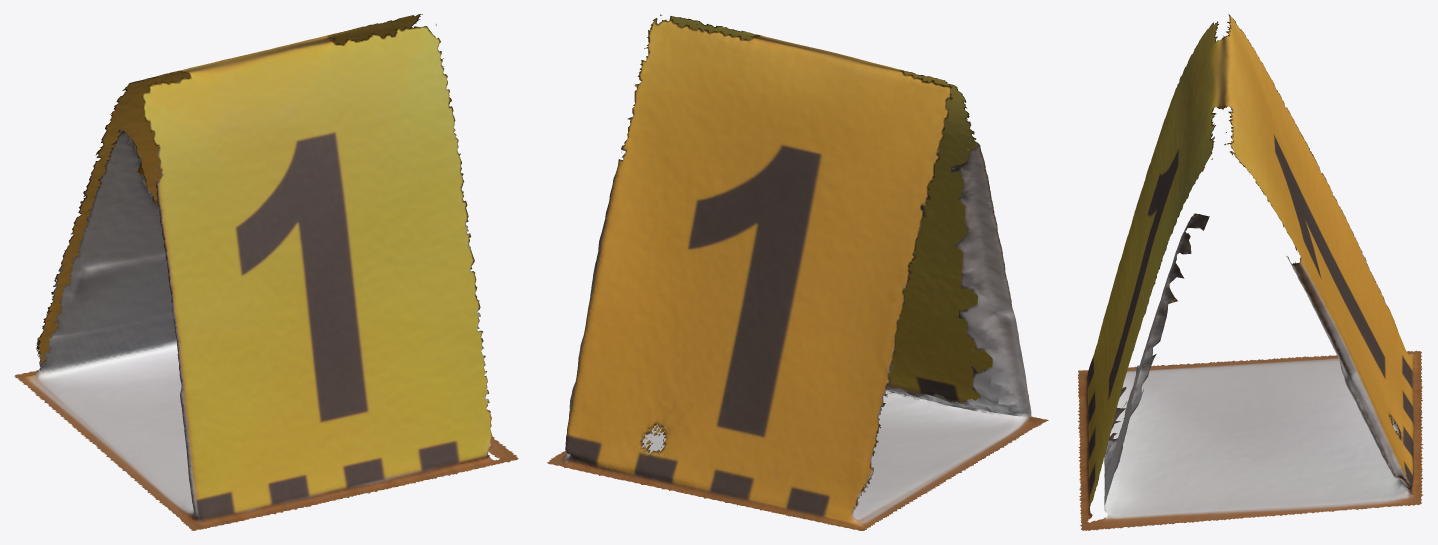
Rendered from crime_scene_card.glb.
3 views of the same model, side by side, from view 1: azimuth 30°, elevation 25°; view 2: azimuth 150°, elevation 25°; view 3: azimuth 270°, elevation 25° (orthographic). The views are drawn at different scales.
Visible parts, largest first — view 1: Object_3, Object_2, Object_4; view 2: Object_2, Object_3, Object_4; view 3: Object_3, Object_2, Object_4.
Part boxes in pixels (bbox=[...]): Object_3: bbox=[14, 14, 518, 530]; Object_2: bbox=[36, 18, 454, 522]; Object_4: bbox=[18, 177, 297, 523]; Object_2: bbox=[563, 14, 1031, 520]; Object_3: bbox=[554, 16, 1048, 530]; Object_4: bbox=[547, 143, 1029, 528]; Object_3: bbox=[1077, 14, 1423, 530]; Object_2: bbox=[1083, 21, 1418, 498]; Object_4: bbox=[1078, 213, 1422, 517].
Size of the model in its own units: 85.81 by 98.27 by 82.51.
1 material, 1 textured.
